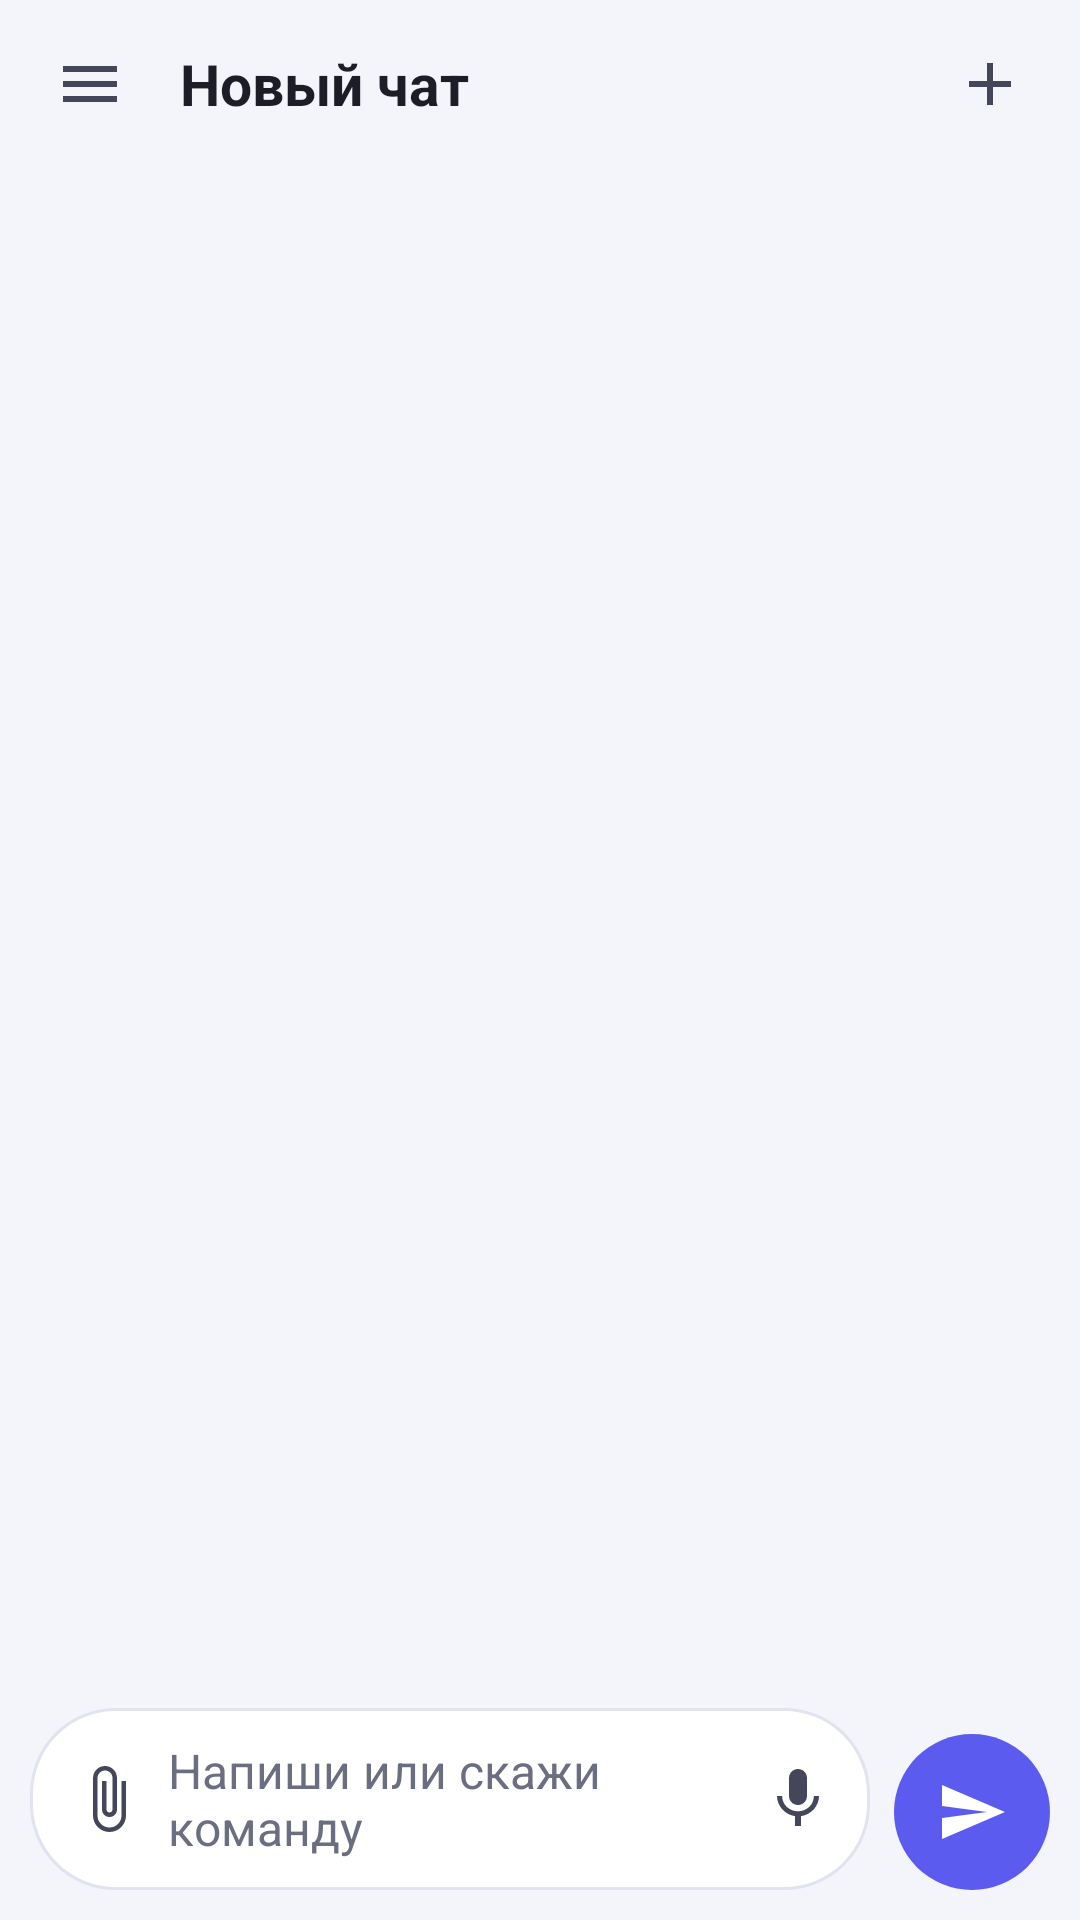

Where to tap for icons on this 1080w x 1920h app screen, as (x,y):
Голосовой ввод: (798,1797)
Отправить: (972,1812)
Прикрепить файл: (109,1799)
Чаты: (90,84)
